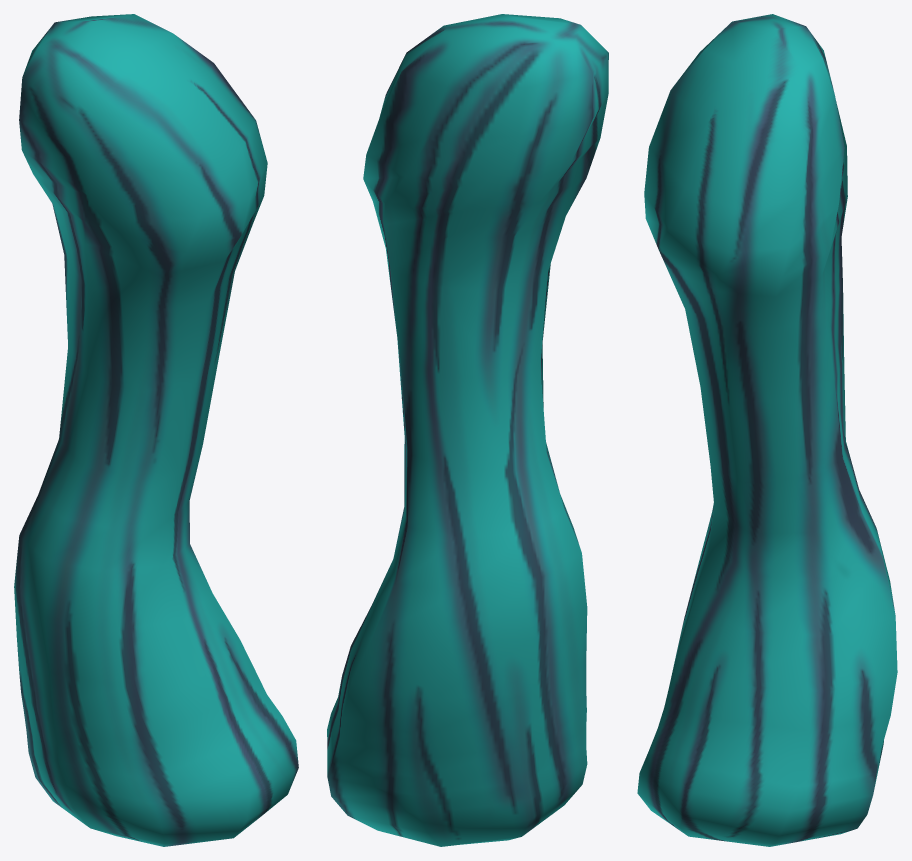
Rendered from Young Tree.fbx.
The picture shows the model from 3 angles, left to right: view 1: azimuth 30°, elevation 25°; view 2: azimuth 150°, elevation 25°; view 3: azimuth 270°, elevation 25°; orthographic projection. The views are drawn at different scales.
Visible parts, largest first — view 1: young tree; view 2: young tree; view 3: young tree.
Part boxes in pixels (<box>): young tree: <box>14,14,298,846</box>; young tree: <box>327,14,608,846</box>; young tree: <box>637,14,897,846</box>.
Bounding box in the file's own units: 91.47 × 280 × 85.82.
